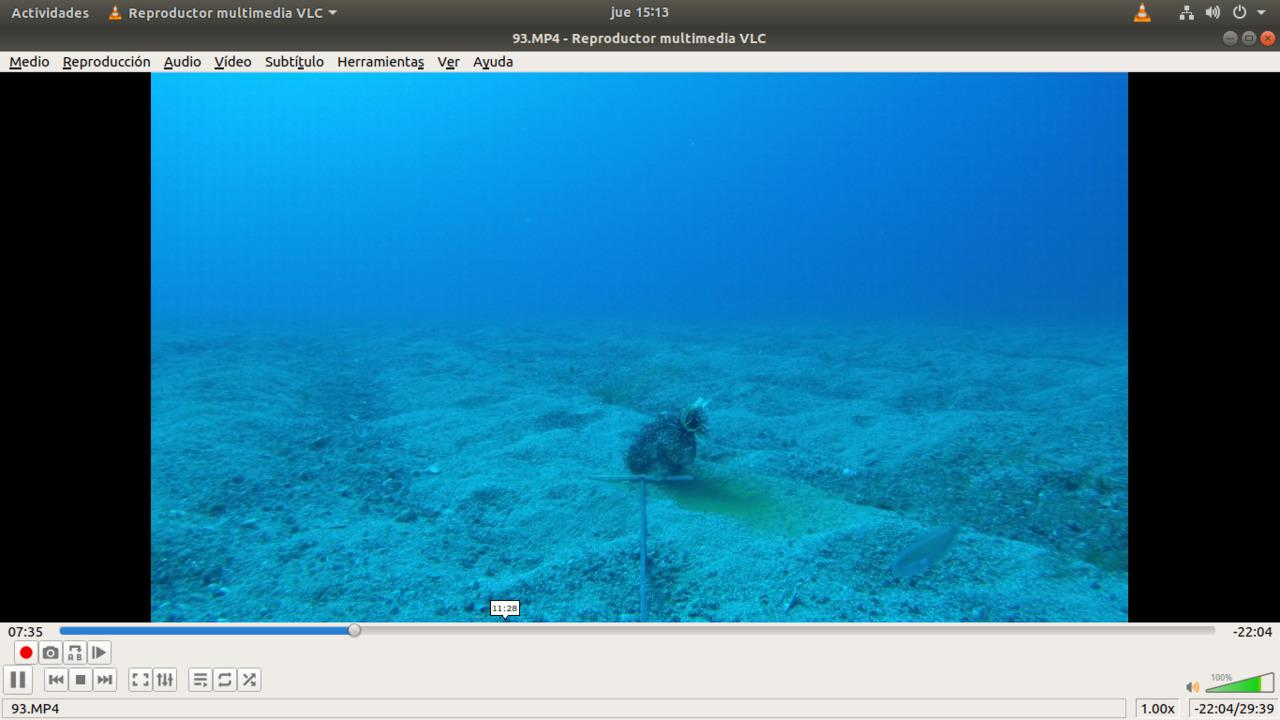raor: (879, 517, 974, 588)
